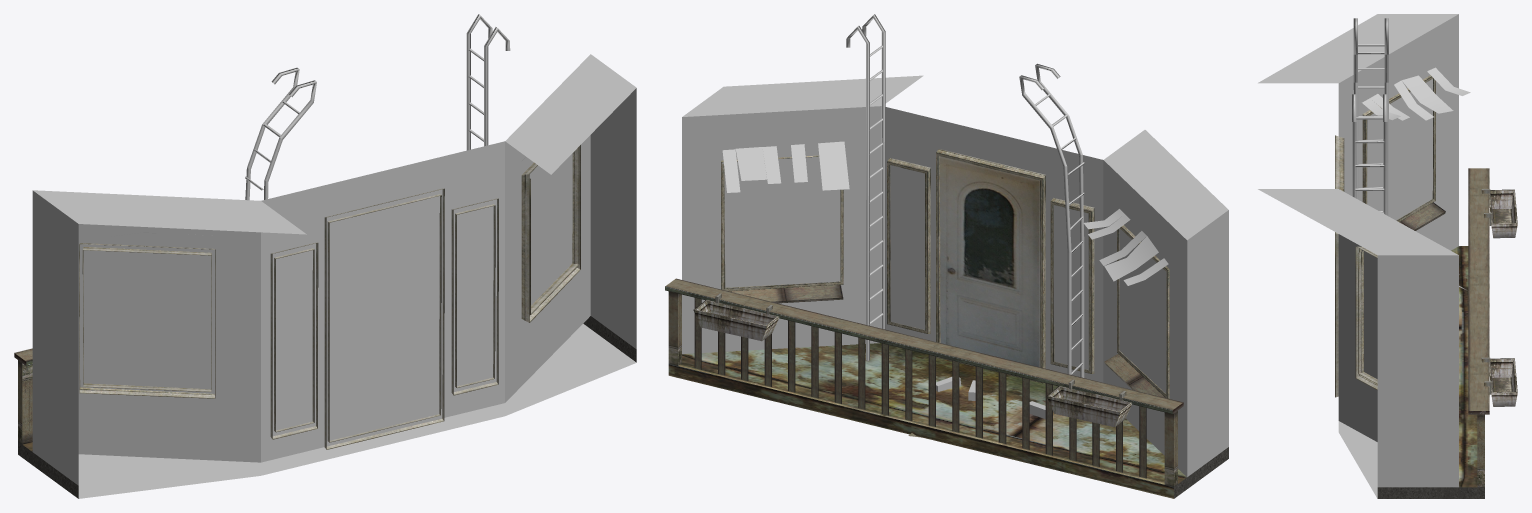
The model's file is Store_front_12_B.fbx.
The picture shows the model from 3 angles, left to right: view 1: azimuth 30°, elevation 25°; view 2: azimuth 150°, elevation 25°; view 3: azimuth 270°, elevation 25°; orthographic projection. The views are drawn at different scales.
Parts seen in each view (by area): view 1: Store_front_12_B; view 2: Store_front_12_B; view 3: Store_front_12_B.
Part boxes in pixels (x1=…): Store_front_12_B: x1=14, y1=14, x2=636, y2=498; Store_front_12_B: x1=665, y1=14, x2=1228, y2=498; Store_front_12_B: x1=1258, y1=14, x2=1517, y2=498.
Bounding box in the file's own units: 703 × 458 × 319.
